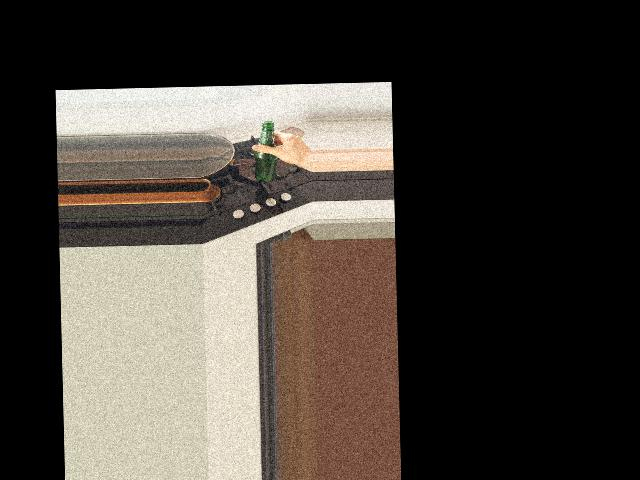beer: (254, 121, 276, 183)
